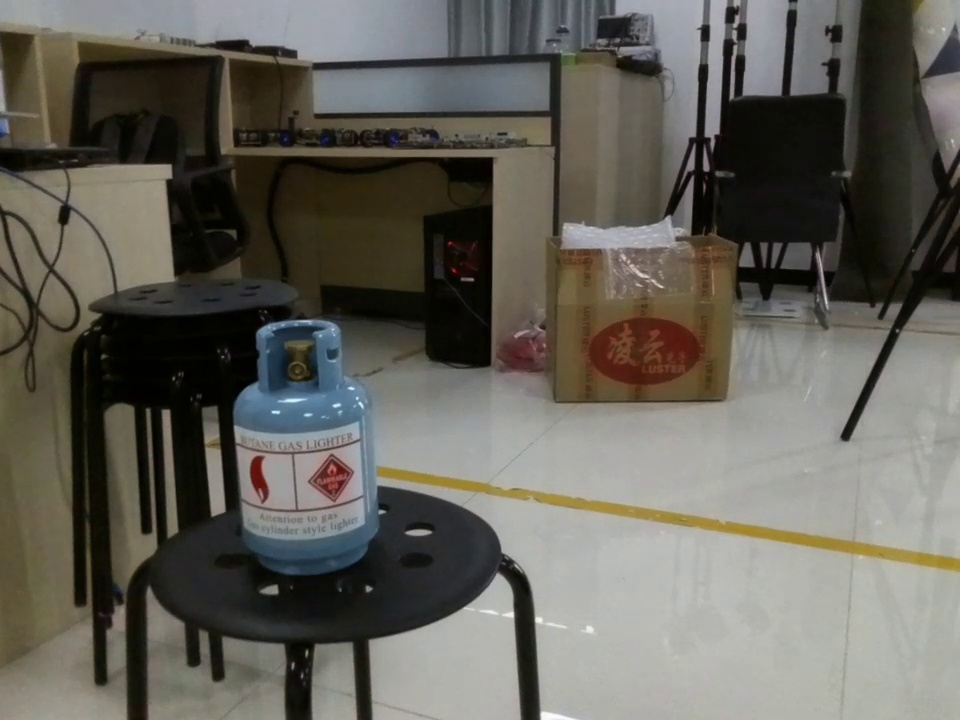gas tank: (231, 317, 389, 589)
